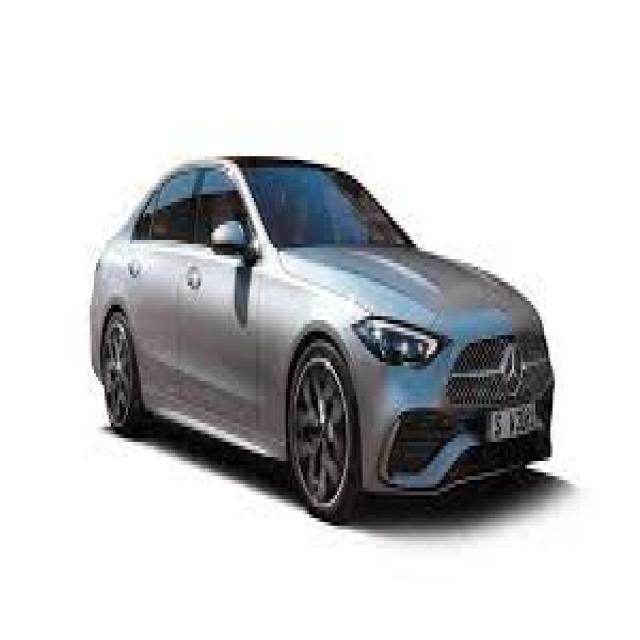Car: (80, 121, 572, 512)
